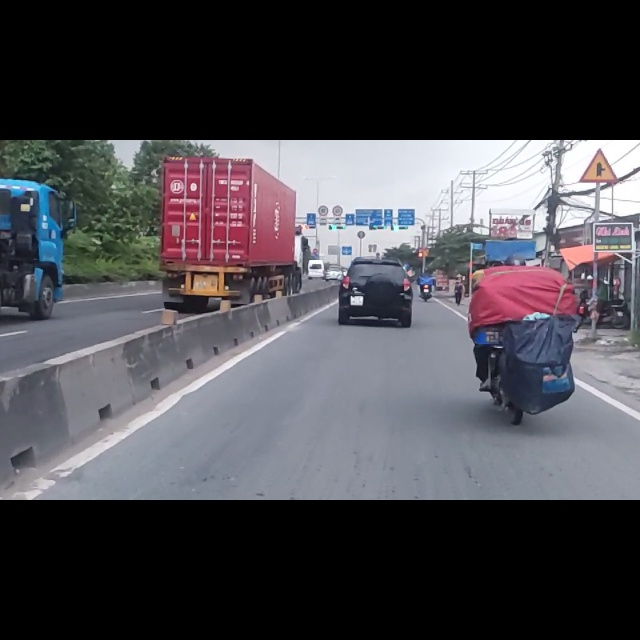bien_chi_dan: (579, 11, 618, 78), (331, 114, 344, 139), (319, 116, 329, 135)
